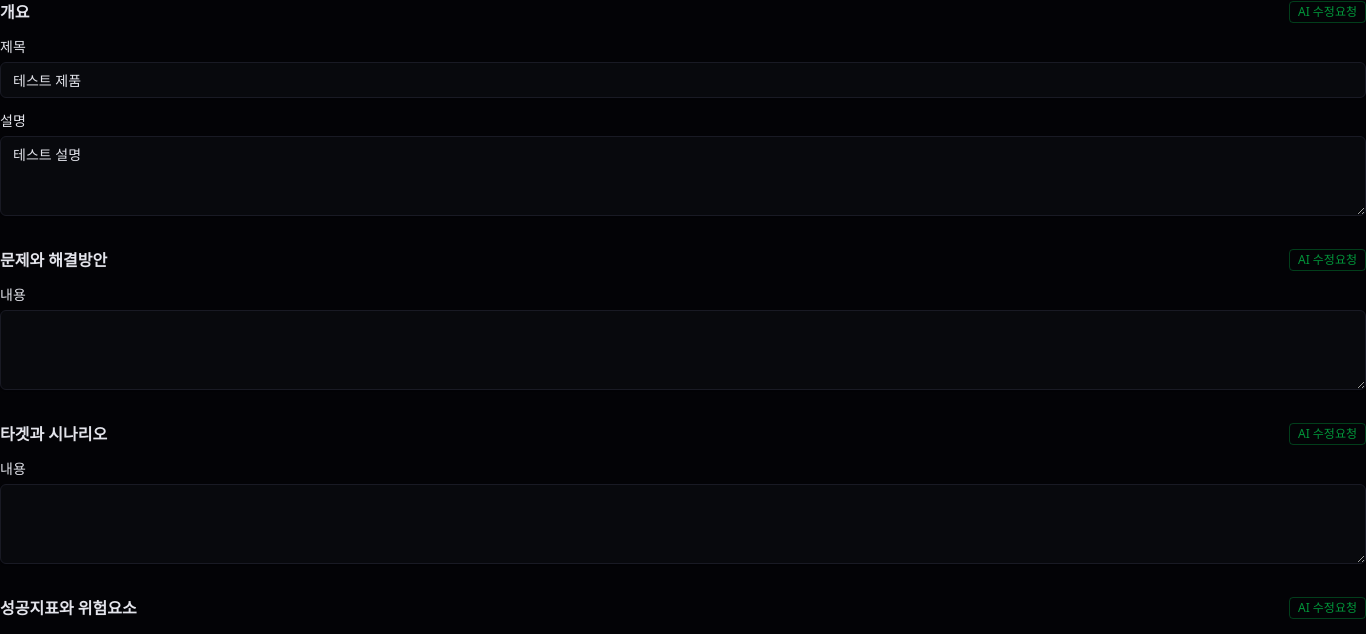
Scenario: SseBanner + useSseWatcher (D-03 편집 보호) › isDirty=true 상태에서 SSE change 이벤트 → 배너 표시(본문 카피 + 두 액션 버튼)
The image size is (1366, 634).
Step 1. Replace the text in the field with test id "input-title" with "수정된 제목" → (683, 80), box left=0, top=62, right=1365, bottom=98
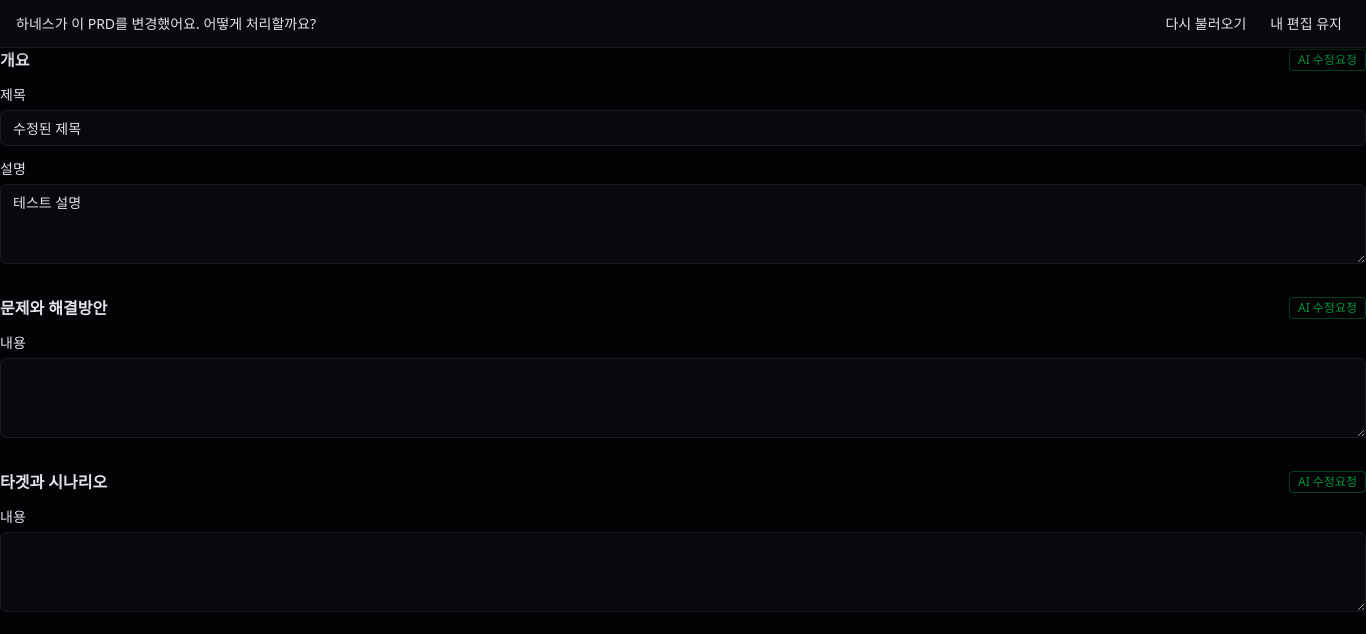
Expected: the text "하네스가 이 PRD를 변경했어요. 어떻게 처리할까요?" is shown, left=16, top=14, right=316, bottom=34
Expected: the button "다시 불러오기" is shown, left=1157, top=10, right=1254, bottom=38
Expected: the button "내 편집 유지" is shown, left=1262, top=10, right=1350, bottom=38
